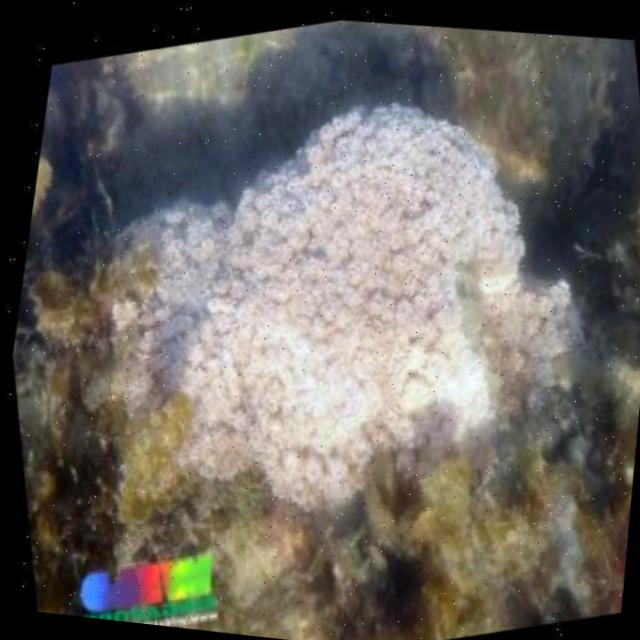Bleached Coral: (95, 66, 508, 523)
